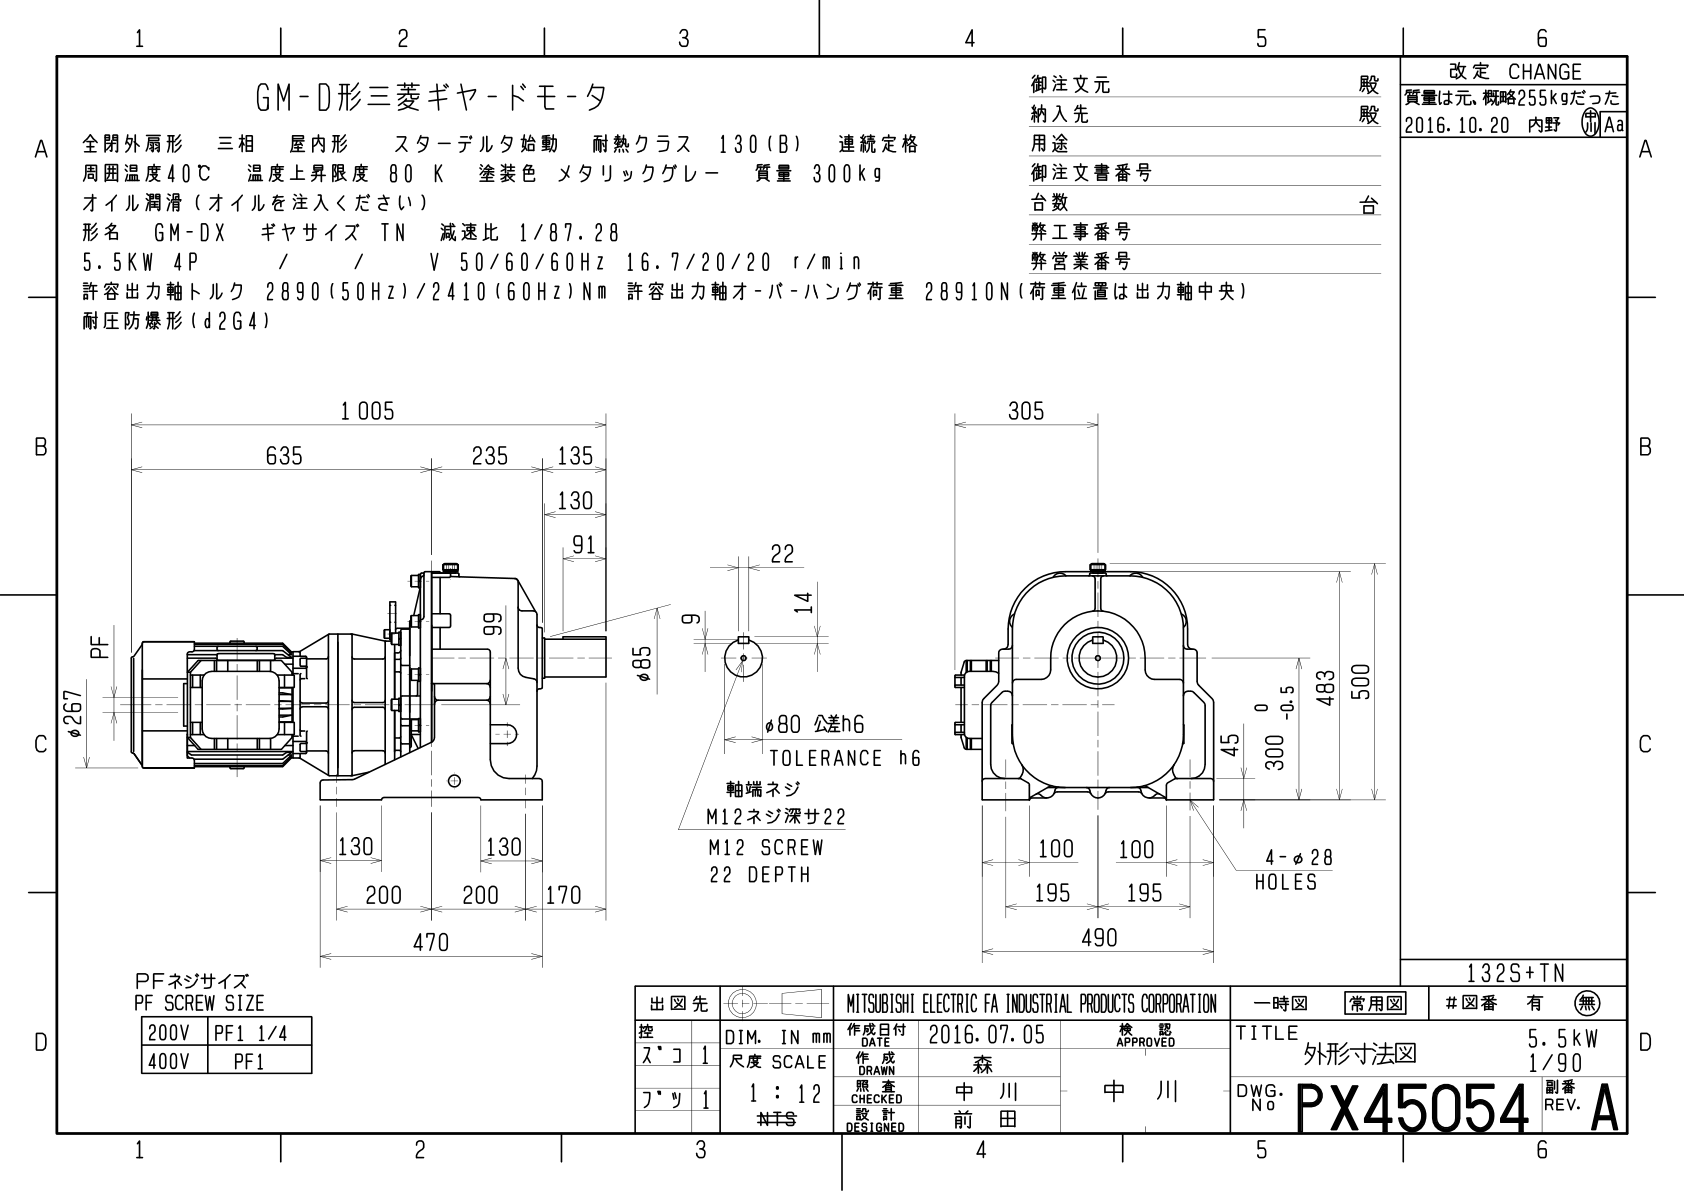GM_D_耐圧屋内_三相_脚: (58, 353, 1397, 973)
